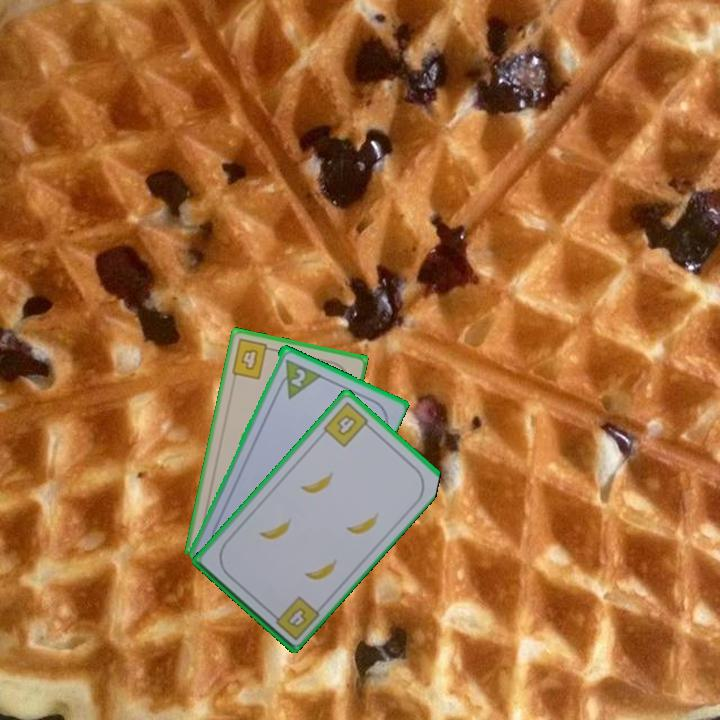2p: (273, 355, 322, 401)
4b: (319, 398, 375, 450), (266, 593, 322, 643), (228, 335, 277, 382)
